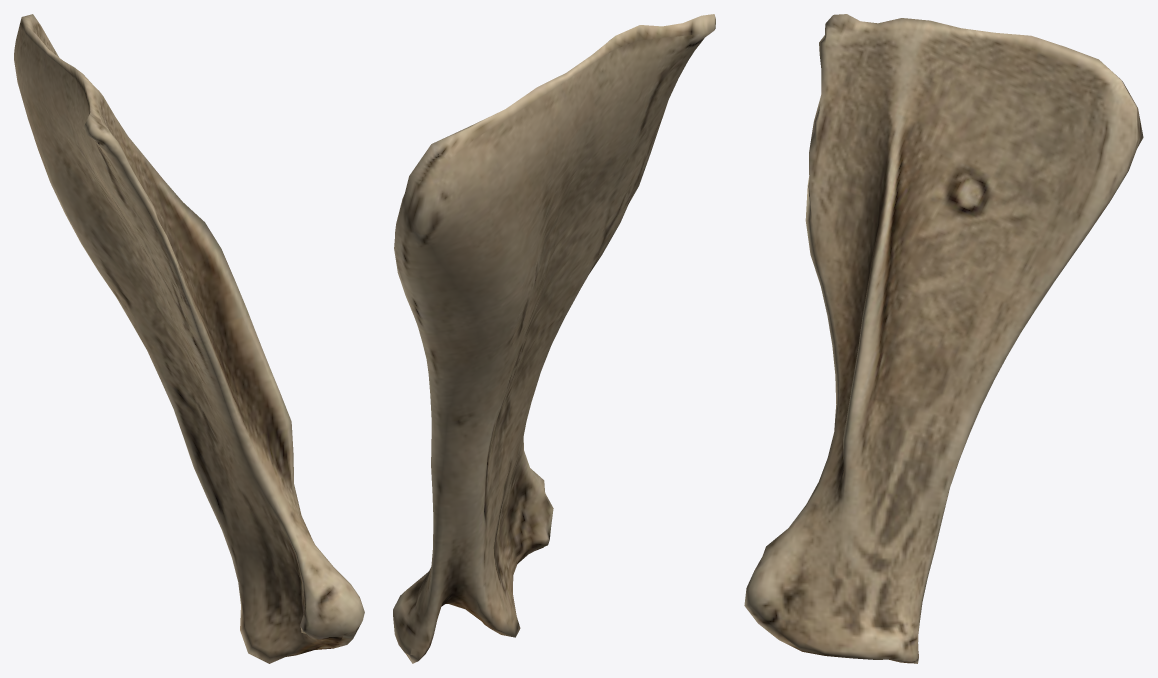
The model's file is Scapula.glb.
3 views of the same model, side by side, from view 1: azimuth 30°, elevation 25°; view 2: azimuth 150°, elevation 25°; view 3: azimuth 270°, elevation 25° (orthographic). The views are drawn at different scales.
Parts seen in each view (by area): view 1: L_Frt_Scapula; view 2: L_Frt_Scapula; view 3: L_Frt_Scapula.
Boxes of the visible parts, box(x1,y1,x2,y2) form: L_Frt_Scapula: box(14, 14, 364, 663); L_Frt_Scapula: box(393, 14, 715, 663); L_Frt_Scapula: box(744, 14, 1143, 663).
Size of the model in its own units: 0.1501 by 0.3337 by 0.2157.
Materials: 1 (1 with a texture image).
